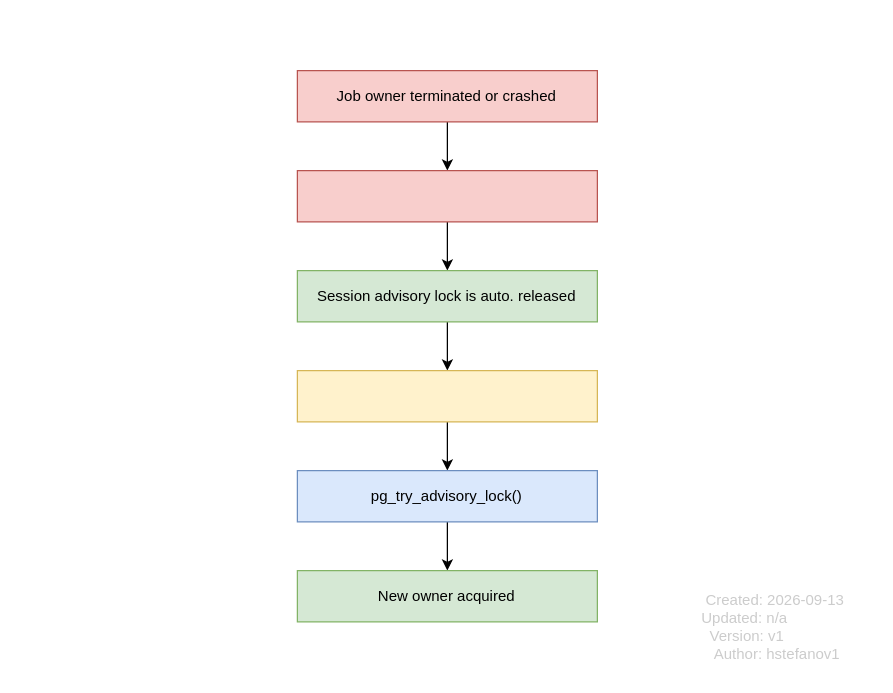
This 893x693 diagram has some shape labels left out. The centre of each missing label's shape, as x and y in pixels:
"Other replicas continue their 30s tick" belongs at (x=446, y=395).
"PostgreSQL connection is terminated" belongs at (x=446, y=195).
